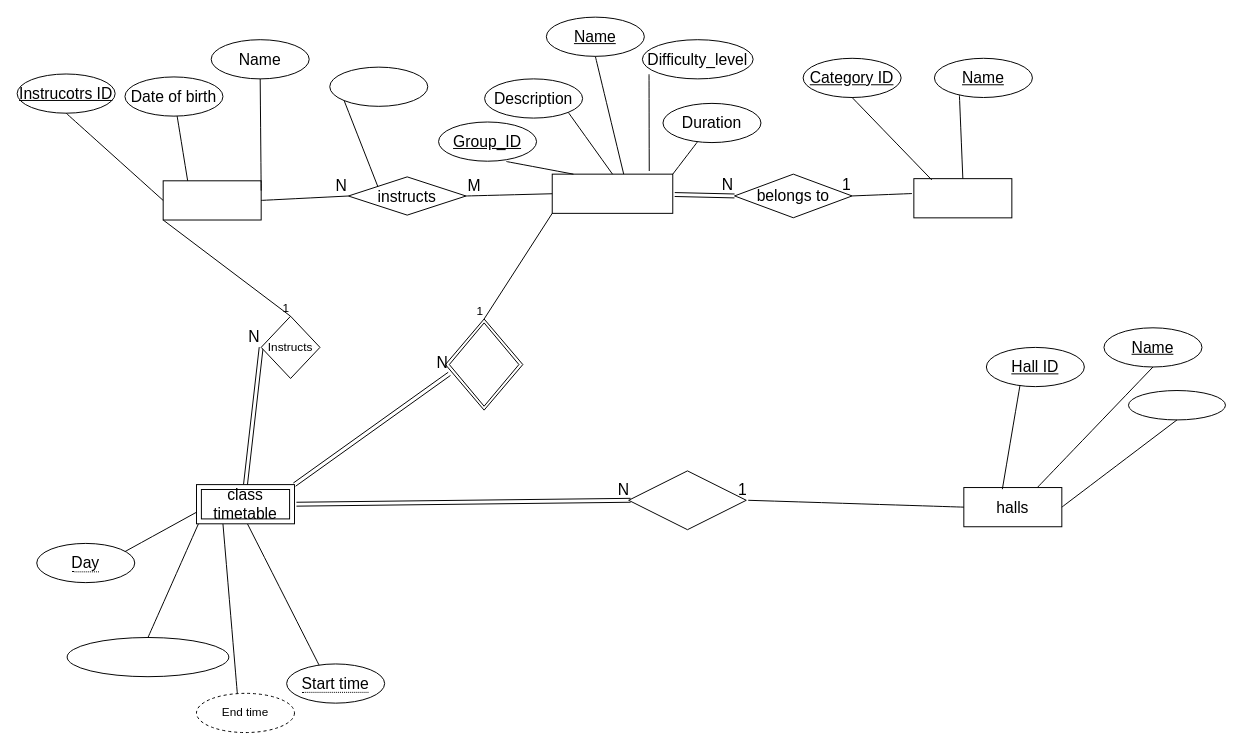
Image size: 1243x750. Some labels were removed from this diagram. The shapes that lost their labels are listed below. From the top down, each one's centre as x and y in pixels, then its label:
[378,86]: Qualification
[211,200]: instructors
[612,193]: group_exercise
[962,198]: categories
[483,364]: takes place
[1176,405]: No of places
[687,500]: held in
[147,657]: Max participants
